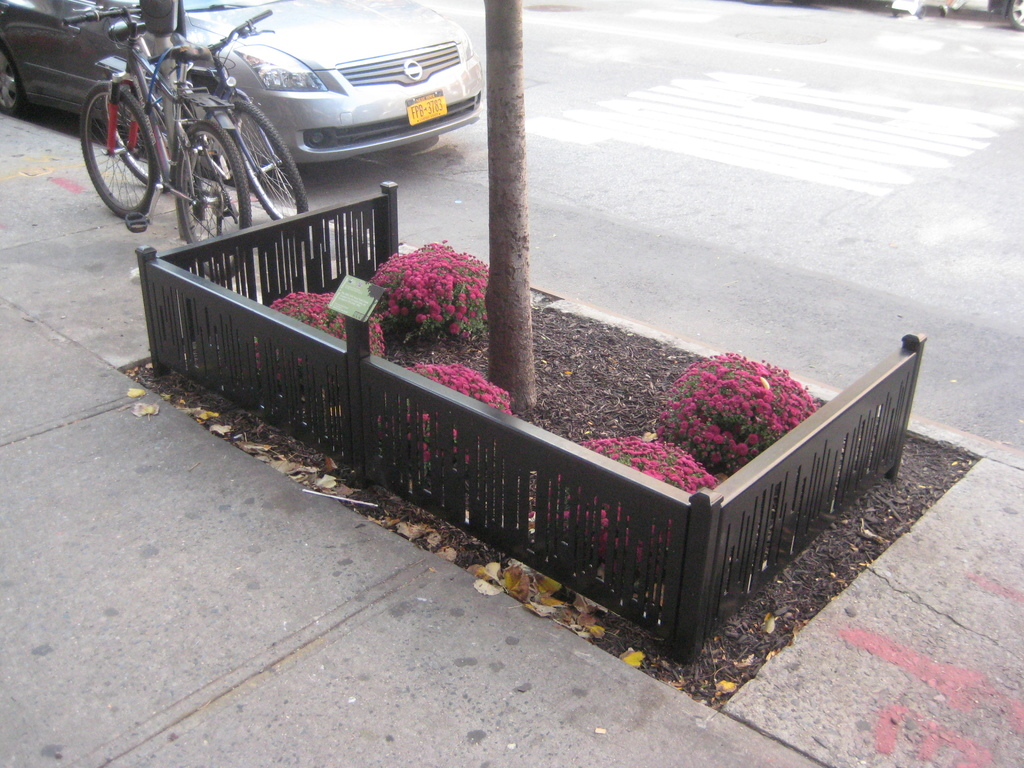Car: (0, 0, 486, 177)
